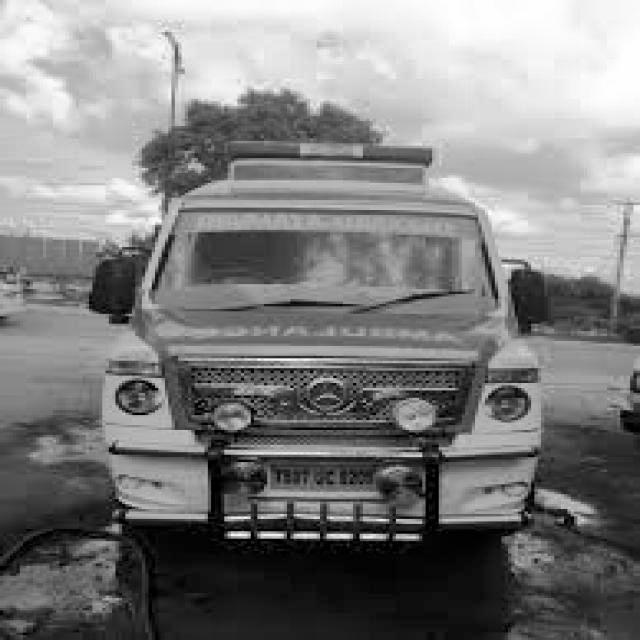LCV: (91, 140, 562, 540)
